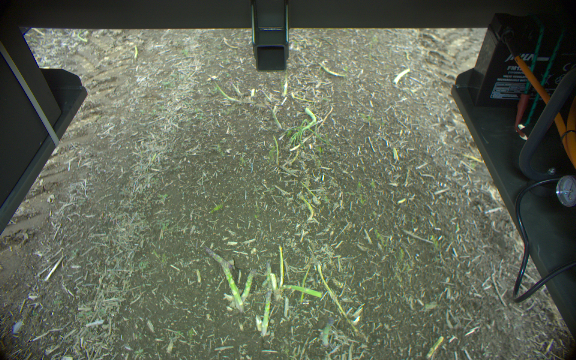aspa: (218, 262, 244, 314), (280, 280, 322, 299), (202, 245, 233, 270), (318, 311, 336, 348), (259, 289, 272, 337), (276, 244, 287, 291), (242, 267, 256, 301), (265, 264, 274, 289)
